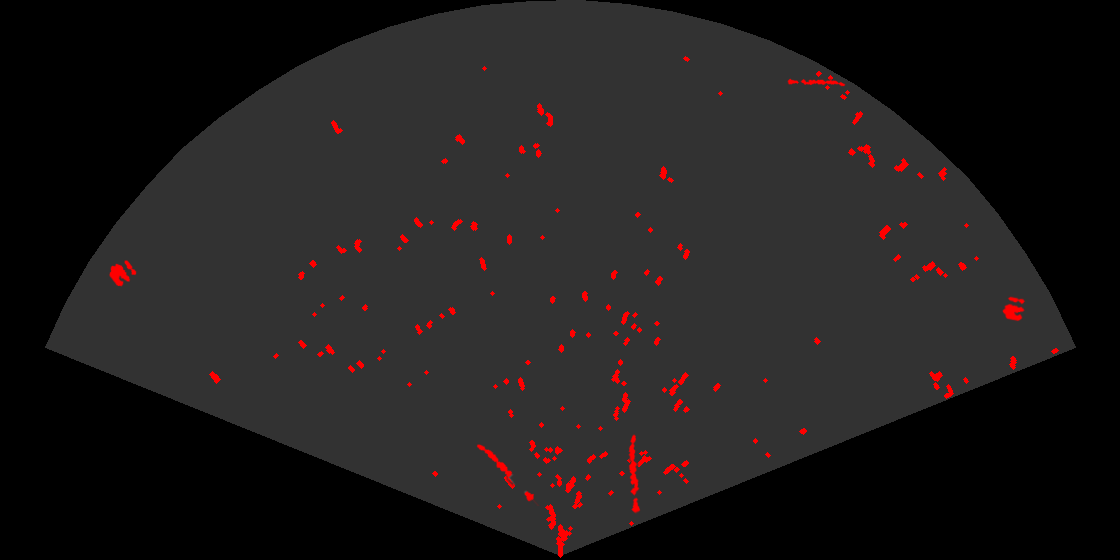ball: (108, 259, 138, 288), (1001, 295, 1027, 323)
chain: (475, 443, 541, 506), (627, 433, 642, 514), (787, 77, 846, 88)
